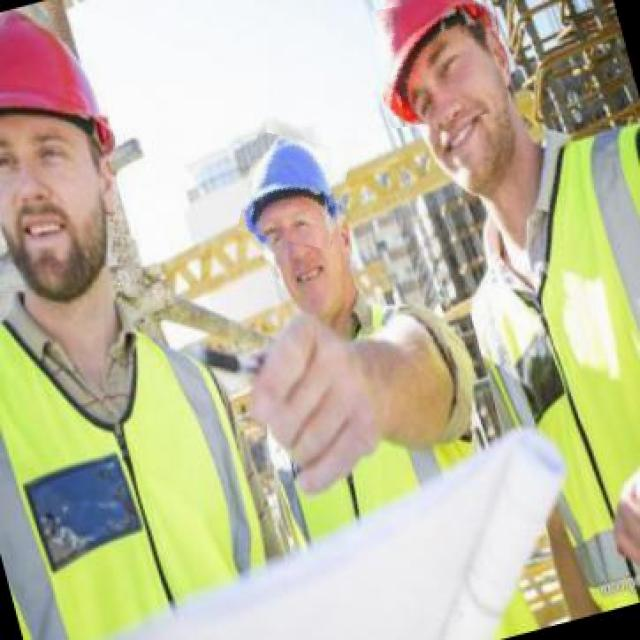helmet: (0, 10, 115, 154), (375, 0, 506, 124), (242, 136, 348, 246)
